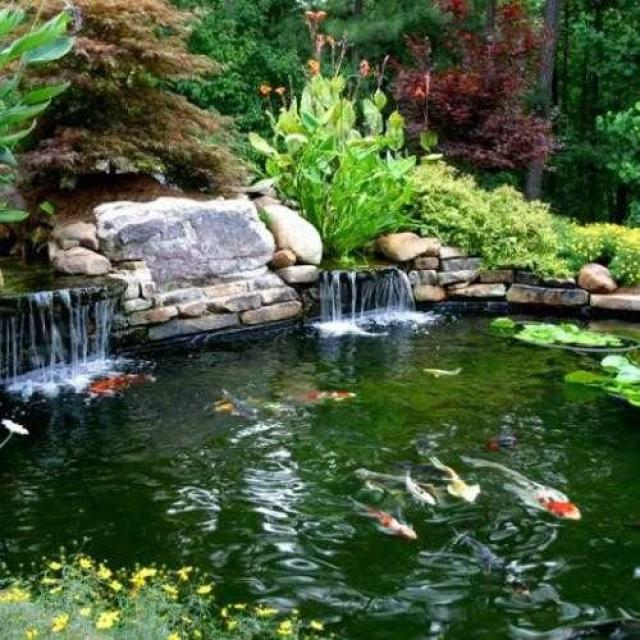Ponds: (1, 255, 640, 640)
